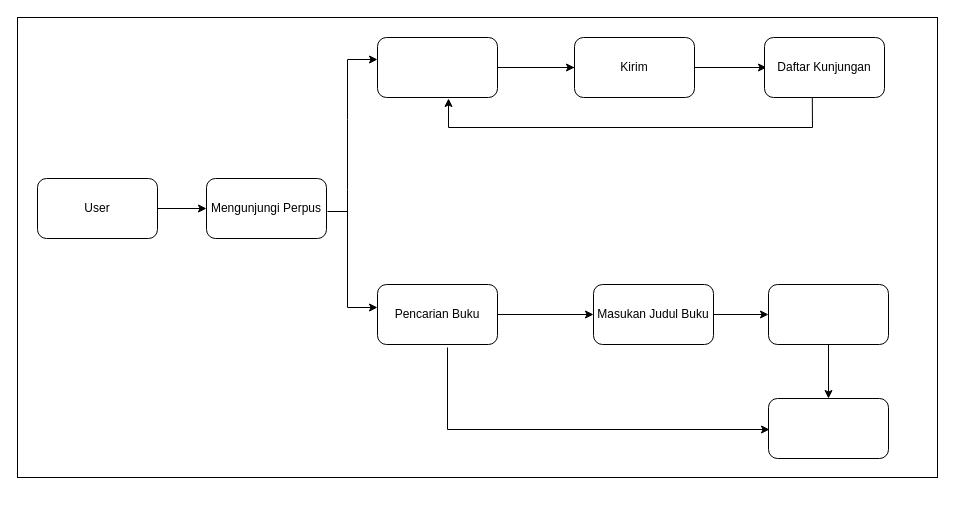
The diagram is 955 pixels wide and 515 high, and some of its shapes have lost their labels. The shapes that lost their labels are listed below. From the top down, each one's box as (x1, y1, x2, y2) in pixels, then its label:
(376, 36, 498, 98): Isi From Pengunjung
(768, 284, 888, 344): Hasil Pencarian
(768, 398, 888, 458): Lihat Rinci Buku
